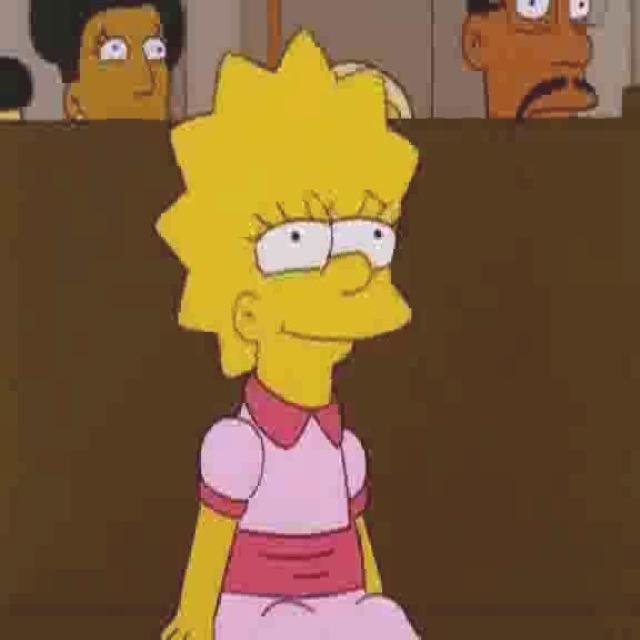Lisa Simpson: (155, 28, 421, 408)
